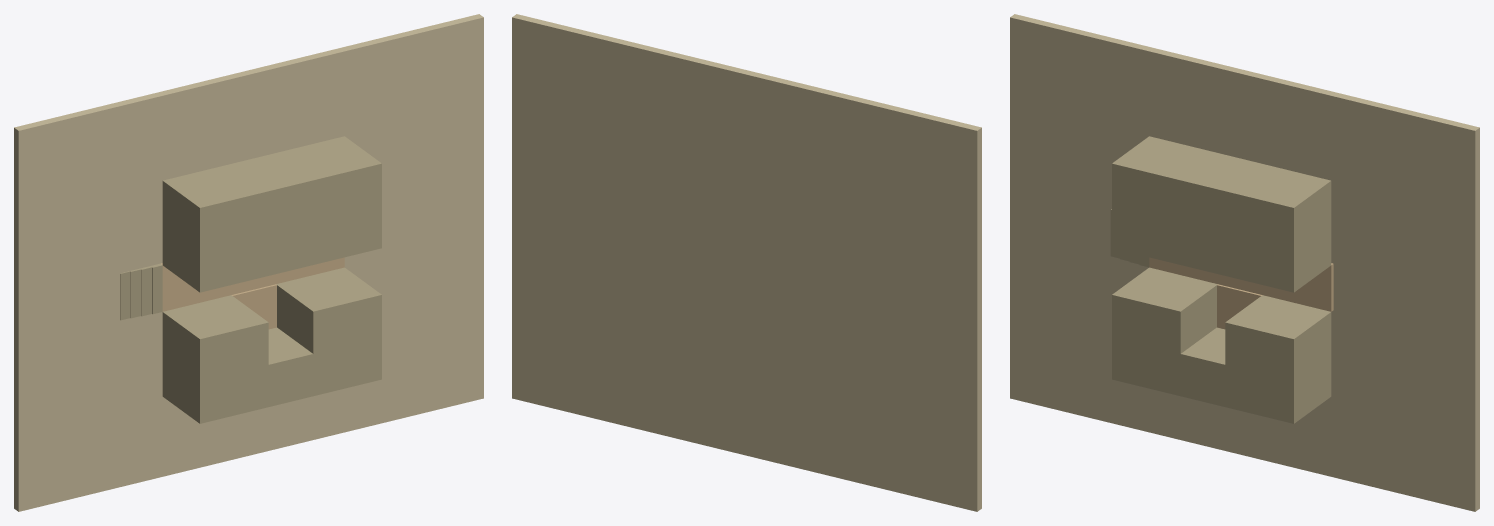
The model's file is dholavira-gate.obj.
The picture shows the model from 3 angles, left to right: view 1: azimuth 30°, elevation 25°; view 2: azimuth 150°, elevation 25°; view 3: azimuth 330°, elevation 25°; orthographic projection.
Parts seen in each view (by area): view 1: ground_0, passage_2, passage_5, passage_3, passage_4, passage_1, guard-room_11, passage_7, passage_9, passage_8, passage_6; view 2: ground_0; view 3: ground_0, passage_2, passage_5, passage_4, passage_3, passage_1, guard-room_11.
Boxes of the visible parts, bbox=[...] form: ground_0: bbox=[14, 14, 483, 511]; passage_2: bbox=[162, 136, 381, 292]; passage_5: bbox=[162, 327, 381, 423]; passage_3: bbox=[162, 295, 268, 381]; passage_4: bbox=[276, 267, 381, 353]; passage_1: bbox=[161, 257, 344, 311]; guard-room_11: bbox=[231, 284, 276, 329]; passage_7: bbox=[130, 268, 141, 318]; passage_9: bbox=[150, 263, 162, 314]; passage_8: bbox=[140, 266, 151, 316]; passage_6: bbox=[120, 271, 130, 320]; ground_0: bbox=[512, 14, 981, 511]; ground_0: bbox=[1010, 14, 1479, 511]; passage_2: bbox=[1112, 136, 1331, 292]; passage_5: bbox=[1112, 327, 1331, 423]; passage_4: bbox=[1225, 295, 1331, 381]; passage_3: bbox=[1112, 267, 1217, 353]; passage_1: bbox=[1149, 257, 1333, 311]; guard-room_11: bbox=[1217, 284, 1262, 329].
Size of the model in its own units: 23 by 18 by 3.8.
